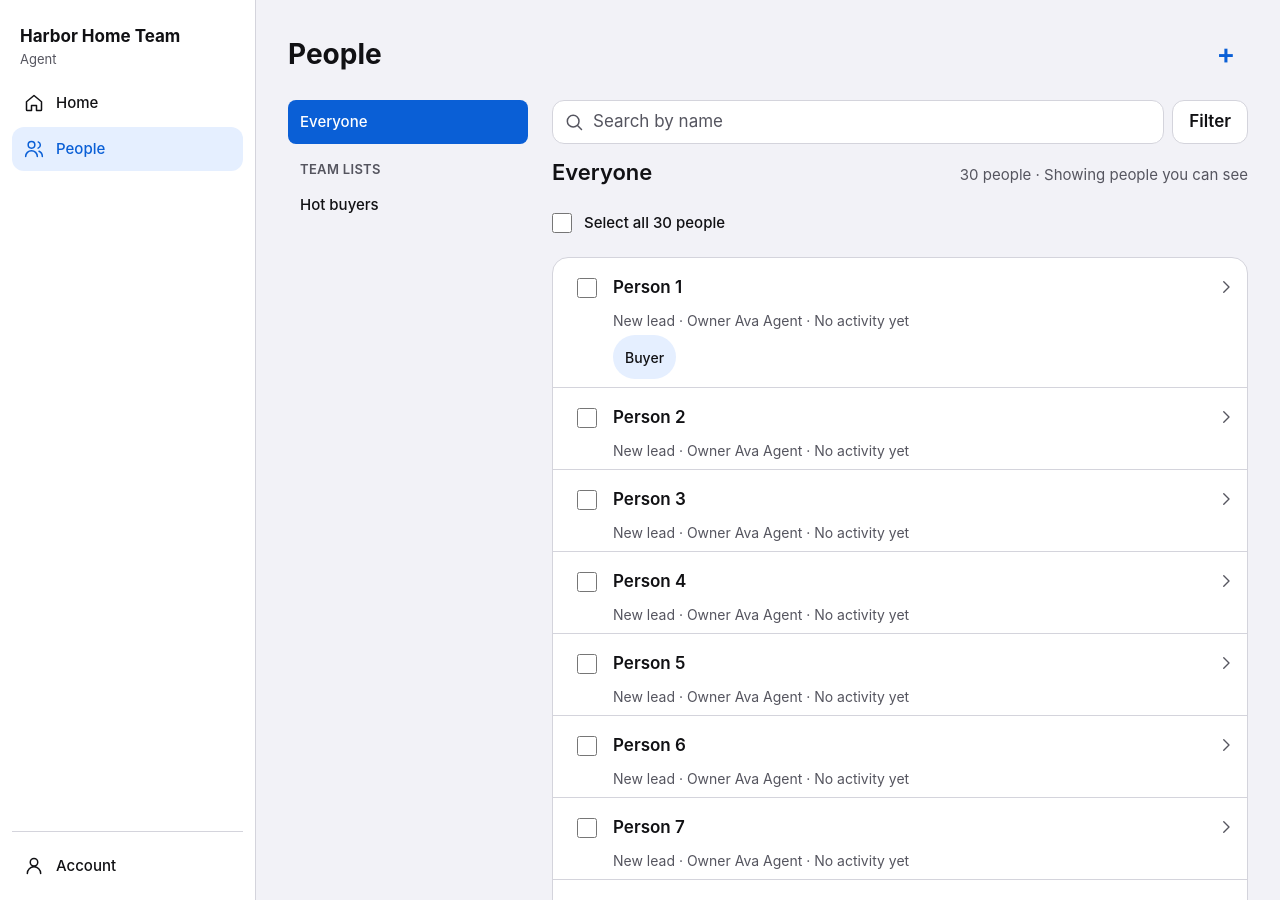
Test case: People page (module 61) › open a smart list in 1 tap from the People page (the list picker)
The width and height of the screenshot is (1280, 900).
Click the button "Hot buyers" at (408, 206), box [288,184,528,228]
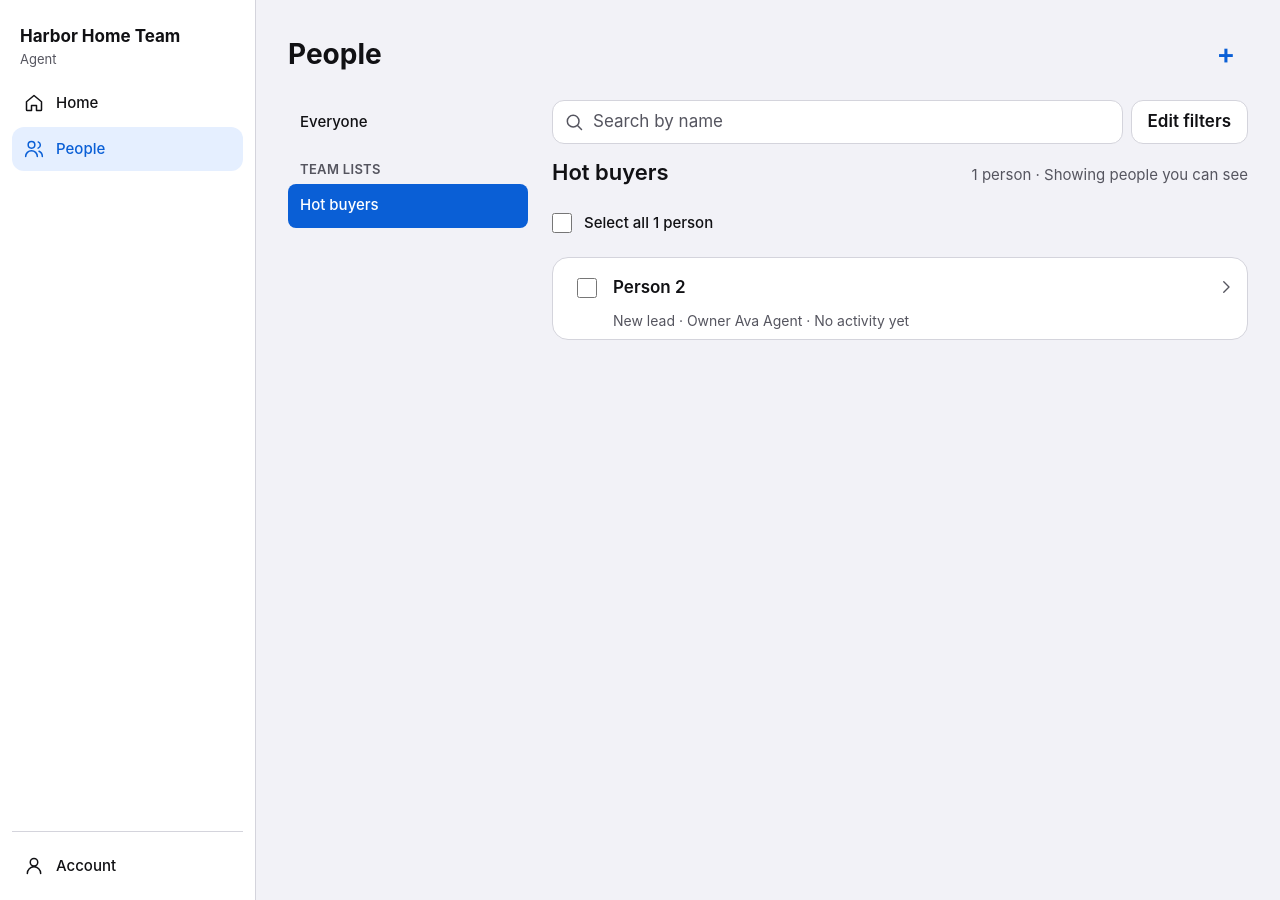
Expected: the heading "Hot buyers" is shown, [552,156,669,189]
